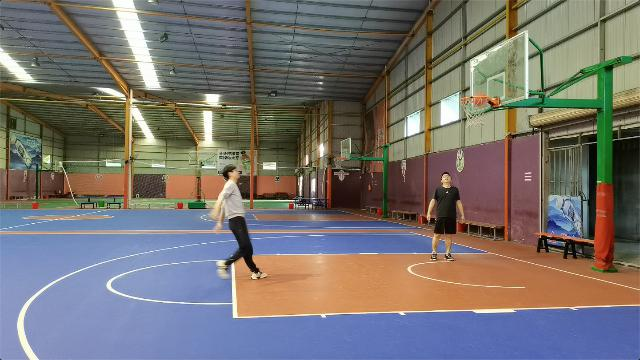basket: (460, 95, 490, 128)
goal: (470, 91, 488, 106)
